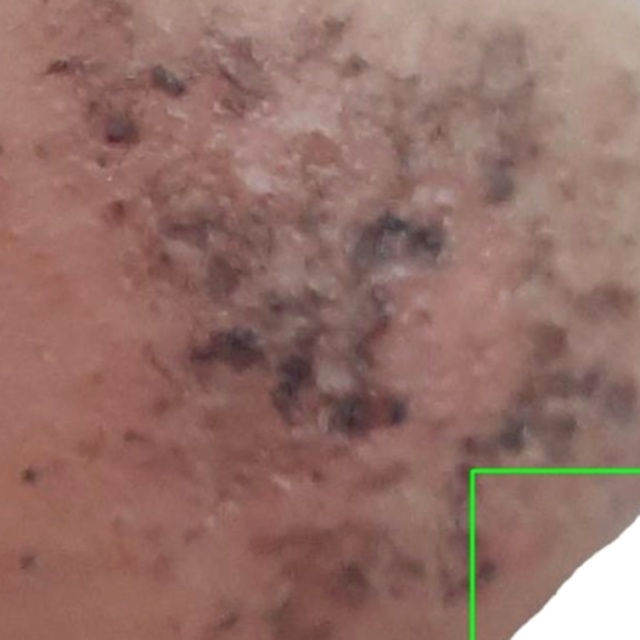Contact Dermatitis: (472, 470, 639, 639)
